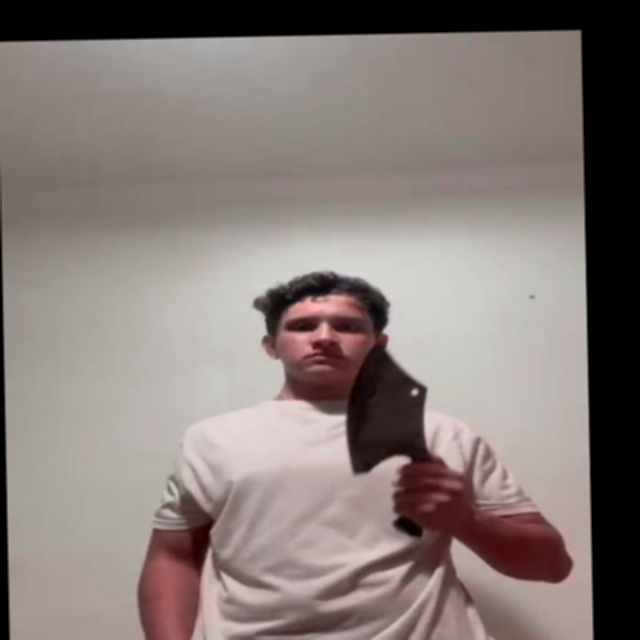Sharp-Object: (346, 343, 430, 470)
